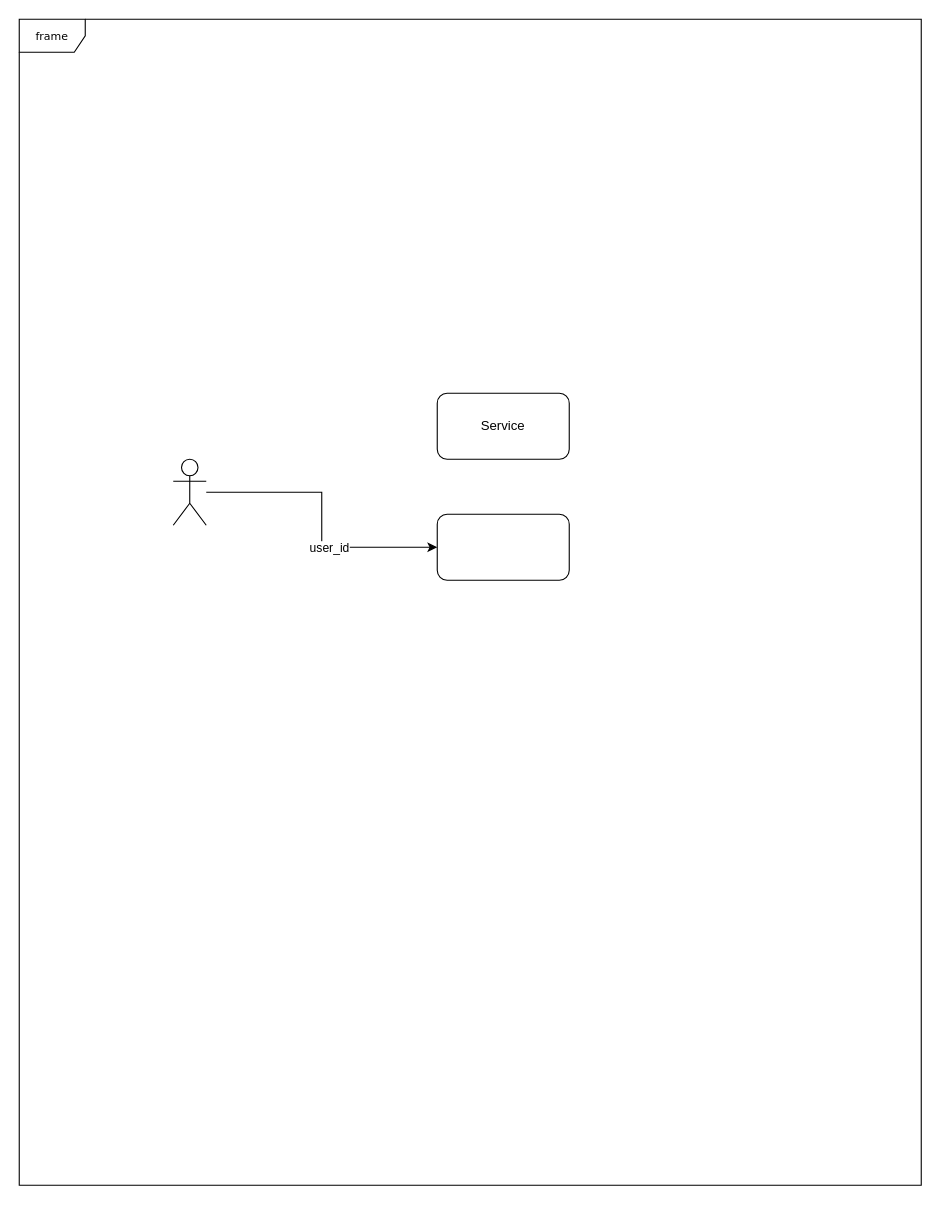
This 941x1205 diagram has some shape labels left out. Each missing label, with the centre of its shape:
Order: point (502, 546)
User: point (189, 491)
